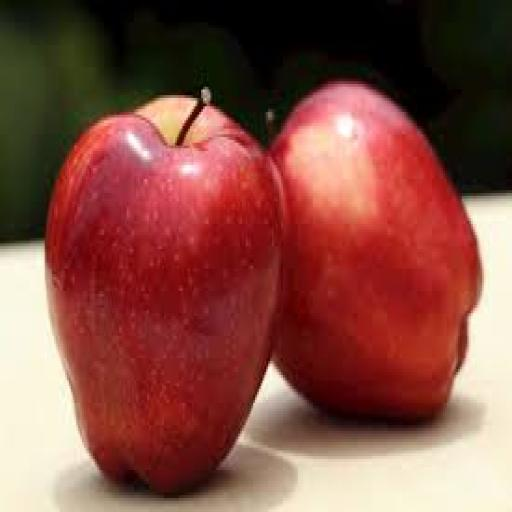apple: (45, 96, 282, 492), (270, 82, 482, 419)
